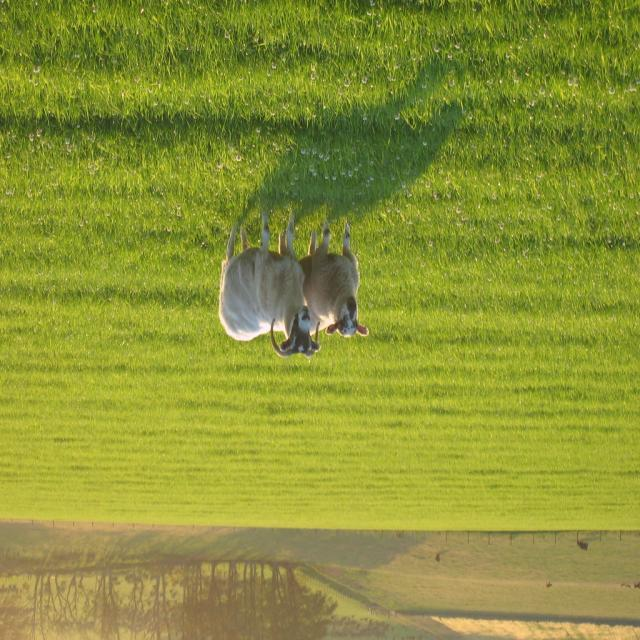Goat: (218, 210, 321, 360), (279, 221, 368, 339)
